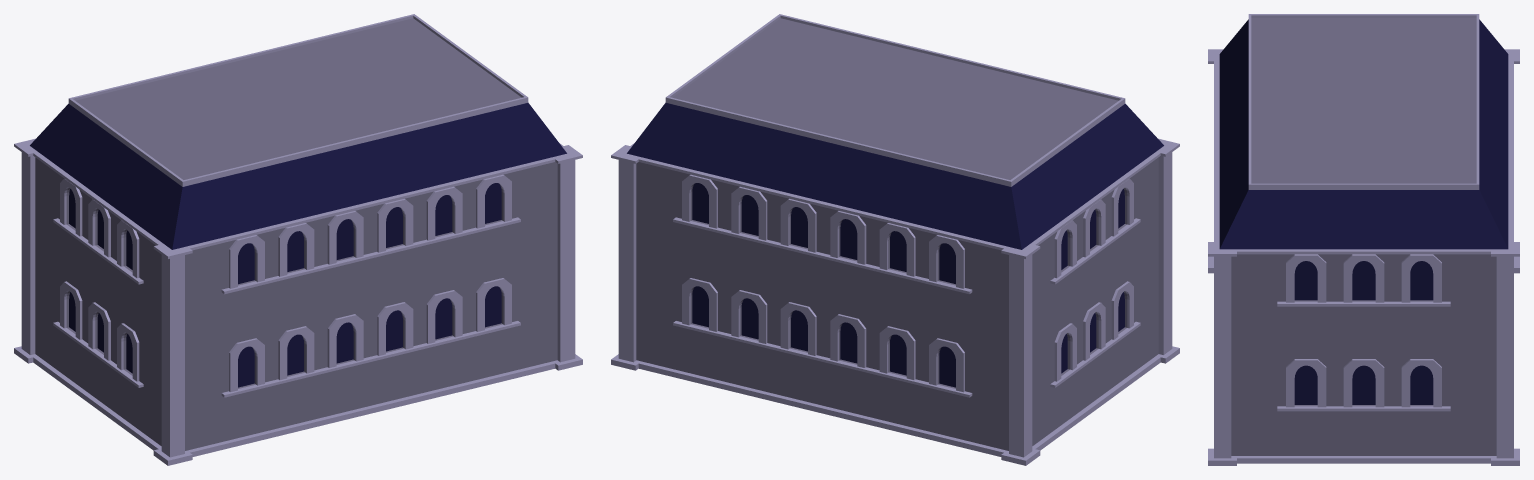
Rendered from house v6.007.fbx.
3 views of the same model, side by side, from view 1: azimuth 30°, elevation 25°; view 2: azimuth 150°, elevation 25°; view 3: azimuth 270°, elevation 25° (orthographic).
Visible parts, largest first — view 1: Building; view 2: Building; view 3: Building.
Boxes of the visible parts, left/top/right/bottom form: Building: left=14, top=14, right=582, bottom=465; Building: left=611, top=14, right=1179, bottom=465; Building: left=1208, top=14, right=1519, bottom=465.
Size of the model in its own units: 540 by 840 by 505.
